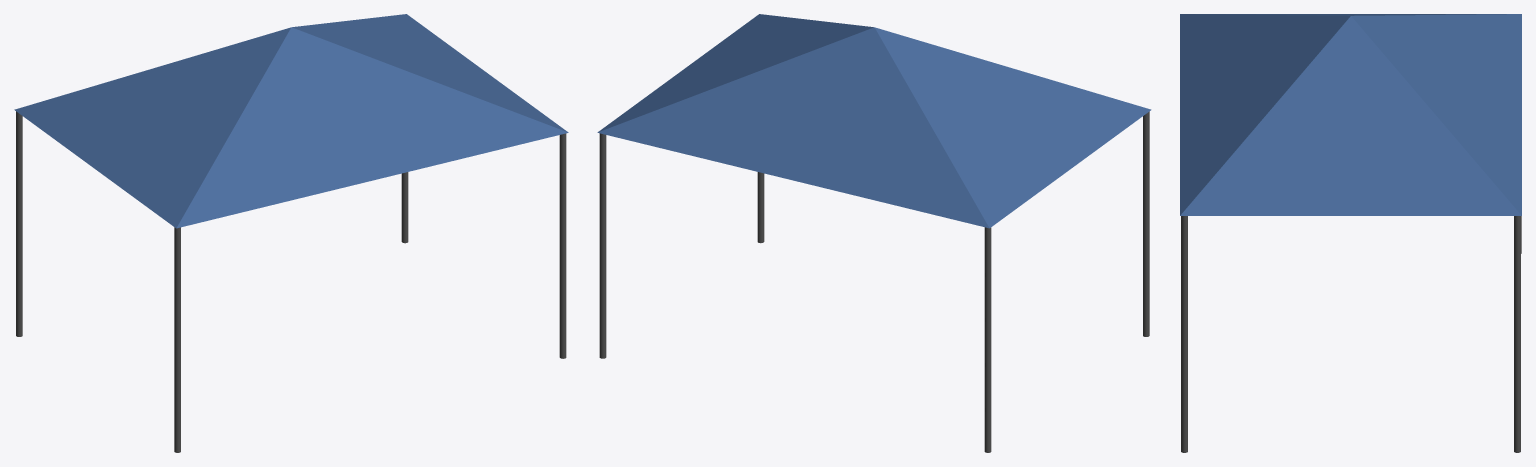
File: Carpa.fbx
The picture shows the model from 3 angles, left to right: view 1: azimuth 30°, elevation 25°; view 2: azimuth 150°, elevation 25°; view 3: azimuth 270°, elevation 25°; orthographic projection. The views are drawn at different scales.
Visible parts, largest first — view 1: CARPA; view 2: CARPA; view 3: CARPA.
Boxes of the visible parts, x1,y1,x2,y2 form: CARPA: (14, 14, 568, 452); CARPA: (597, 14, 1151, 452); CARPA: (1180, 14, 1521, 452).
Bounding box in the file's own units: 437 × 340 × 313.
